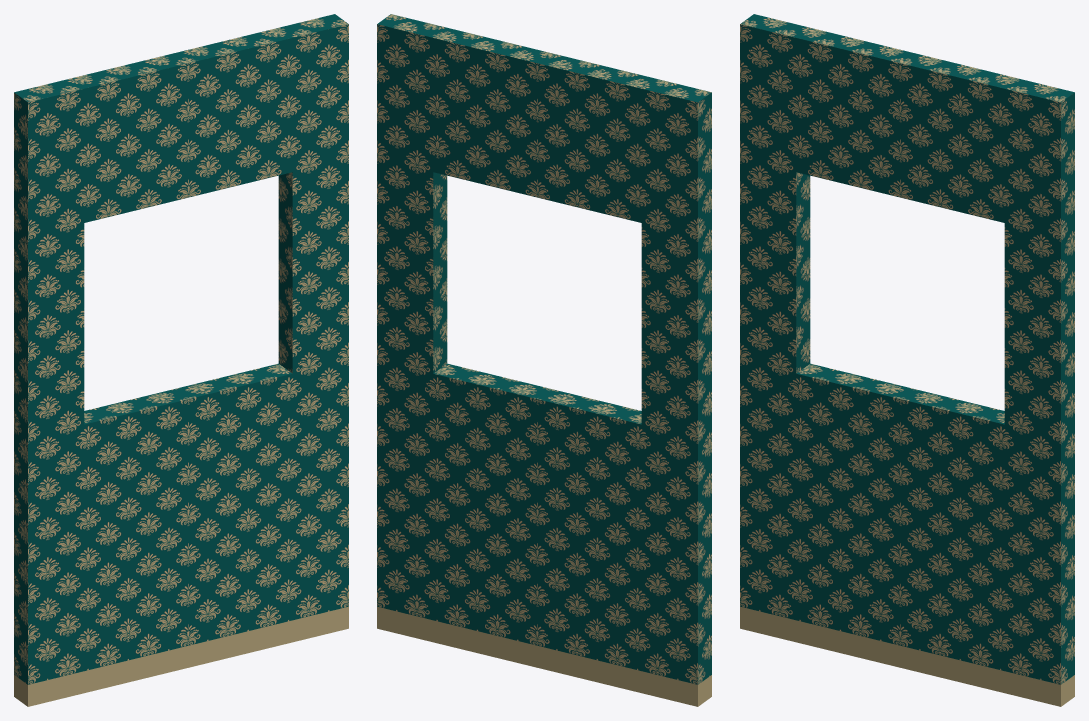
Rendered from ARC0210025.fbx.
The picture shows the model from 3 angles, left to right: view 1: azimuth 30°, elevation 25°; view 2: azimuth 150°, elevation 25°; view 3: azimuth 330°, elevation 25°; orthographic projection.
Parts seen in each view (by area): view 1: smARC0210025; view 2: smARC0210025; view 3: smARC0210025.
Boxes of the visible parts, x1,y1,x2,y2 form: smARC0210025: (14, 14, 348, 706); smARC0210025: (377, 14, 711, 706); smARC0210025: (740, 14, 1074, 706).
Size of the model in its own units: 182 by 328 by 13.67.
Materials: 1 (1 with a texture image).
